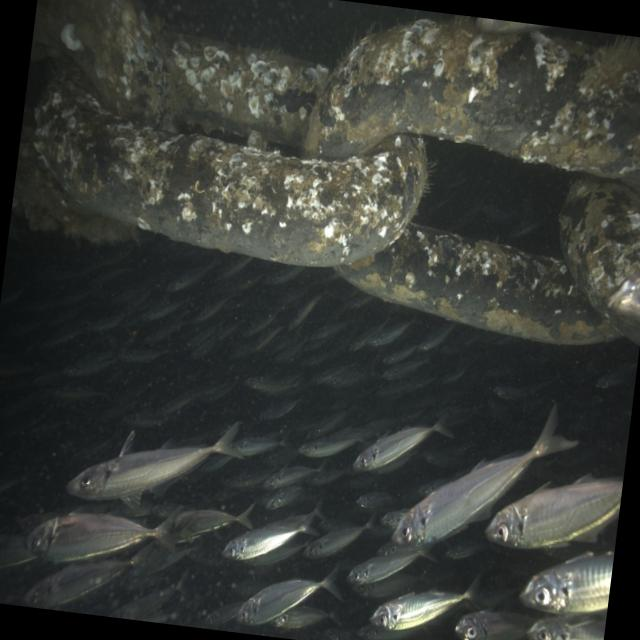ChainLink: (34, 74, 425, 266), (303, 19, 640, 185), (336, 224, 618, 344), (159, 30, 329, 146), (33, 0, 169, 126), (12, 107, 135, 242), (560, 176, 640, 344)
